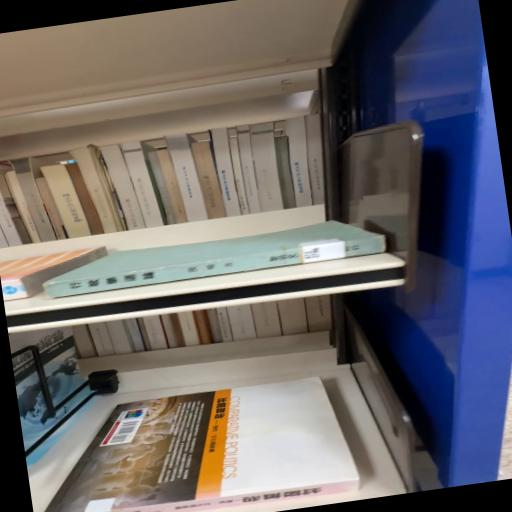flat: (44, 377, 360, 512), (43, 221, 385, 298)
